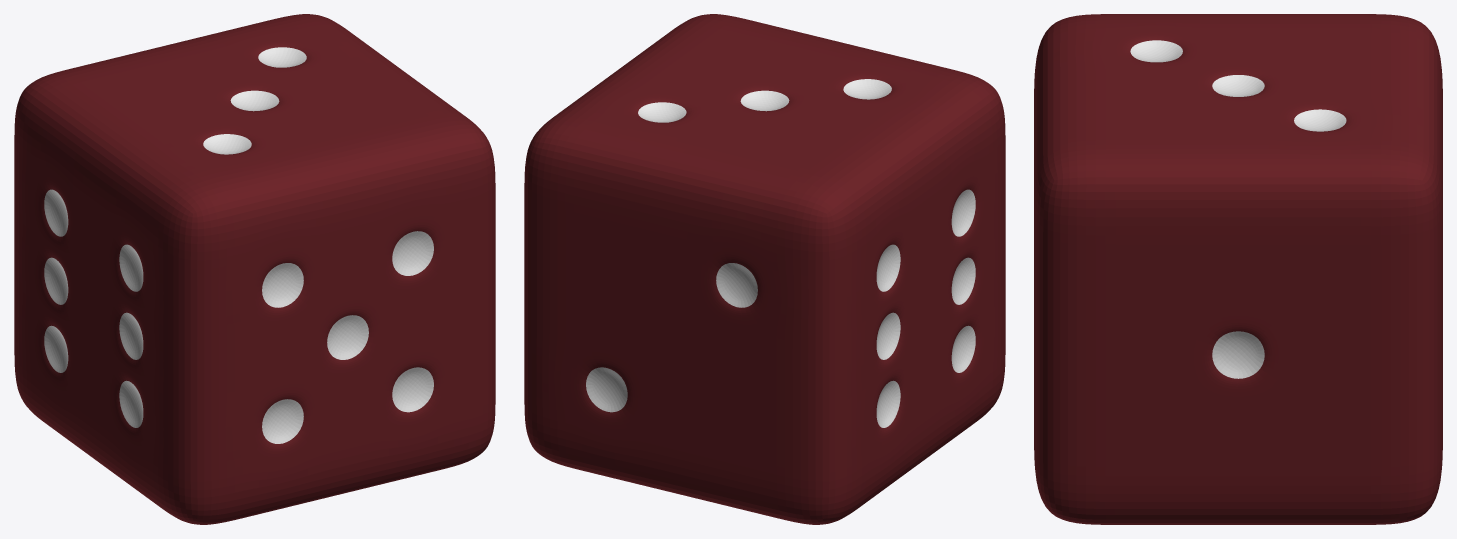
The model's file is dice.fbx.
The picture shows the model from 3 angles, left to right: view 1: azimuth 30°, elevation 25°; view 2: azimuth 150°, elevation 25°; view 3: azimuth 270°, elevation 25°; orthographic projection. The views are drawn at different scales.
Parts seen in each view (by area): view 1: Cube; view 2: Cube; view 3: Cube.
Part boxes in pixels (x1,y1,x2,y2): Cube: [14, 14, 495, 524]; Cube: [524, 14, 1005, 524]; Cube: [1034, 14, 1442, 524].
Bounding box in the file's own units: 200 × 200 × 200.
